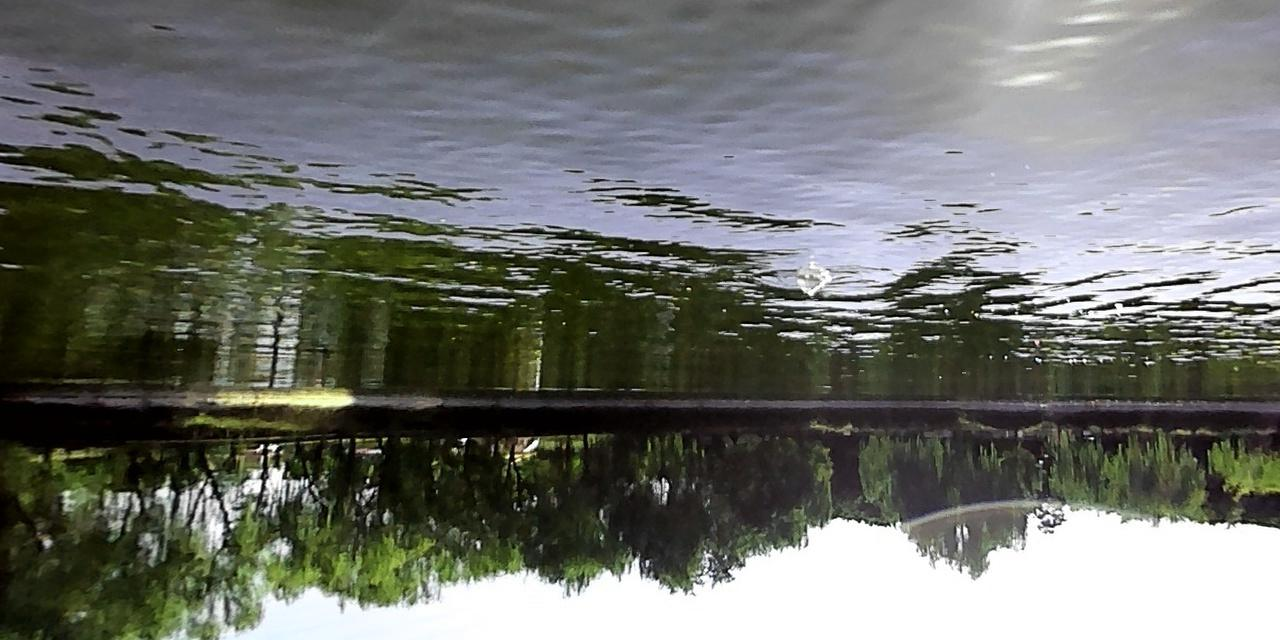Plastic: (795, 267, 835, 297)
